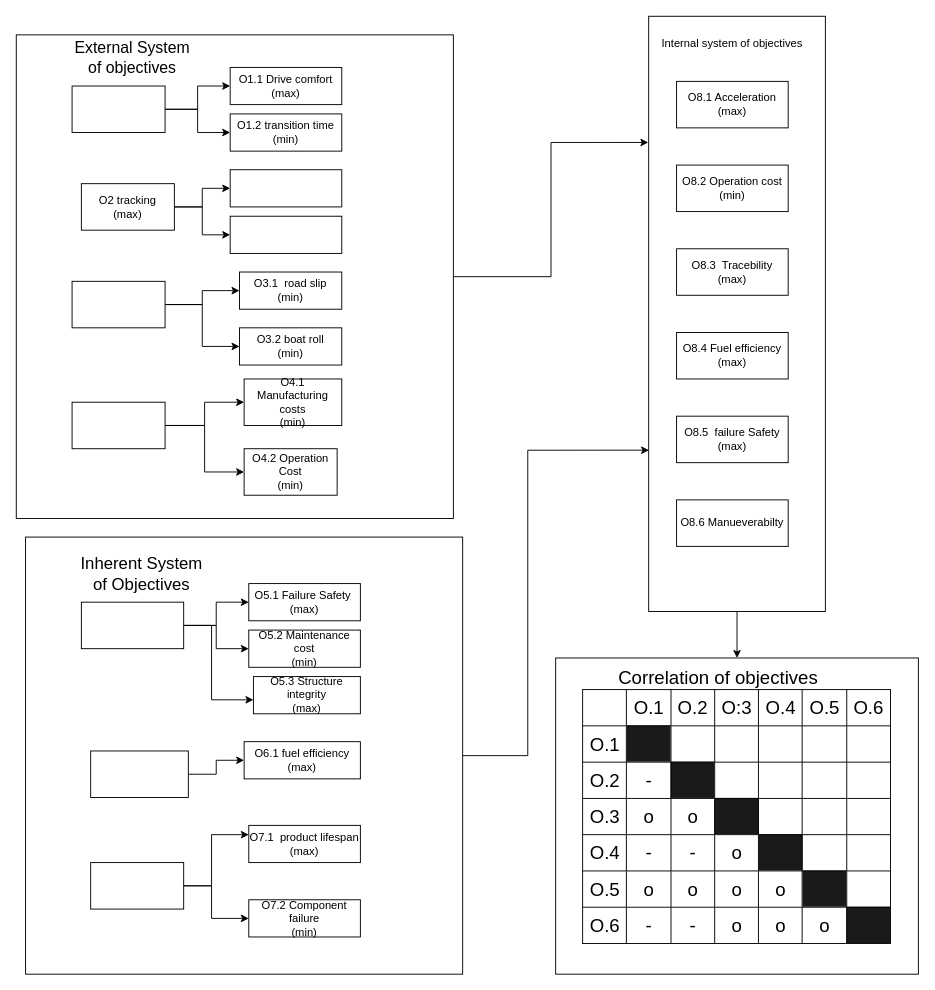
Some shapes in this 935 by 990 pixel diagram are drawn without their labels. The centre of each missing label's shape, as x and y in pixels:
"O1.User satisfaction (max)" belongs at point (118, 109).
"O2.1 Tracebility (max)" belongs at point (285, 188).
"O2.2 Updation time (min)" belongs at point (285, 234).
"O3 manueverabilty (max)" belongs at point (118, 304).
"O4 costs (min)" belongs at point (118, 425).
"O5. Safety reliabilty (max)" belongs at point (132, 625).
"O6 Efficiency (max)" belongs at point (139, 773).
"O7 Dependability" belongs at point (137, 885).
